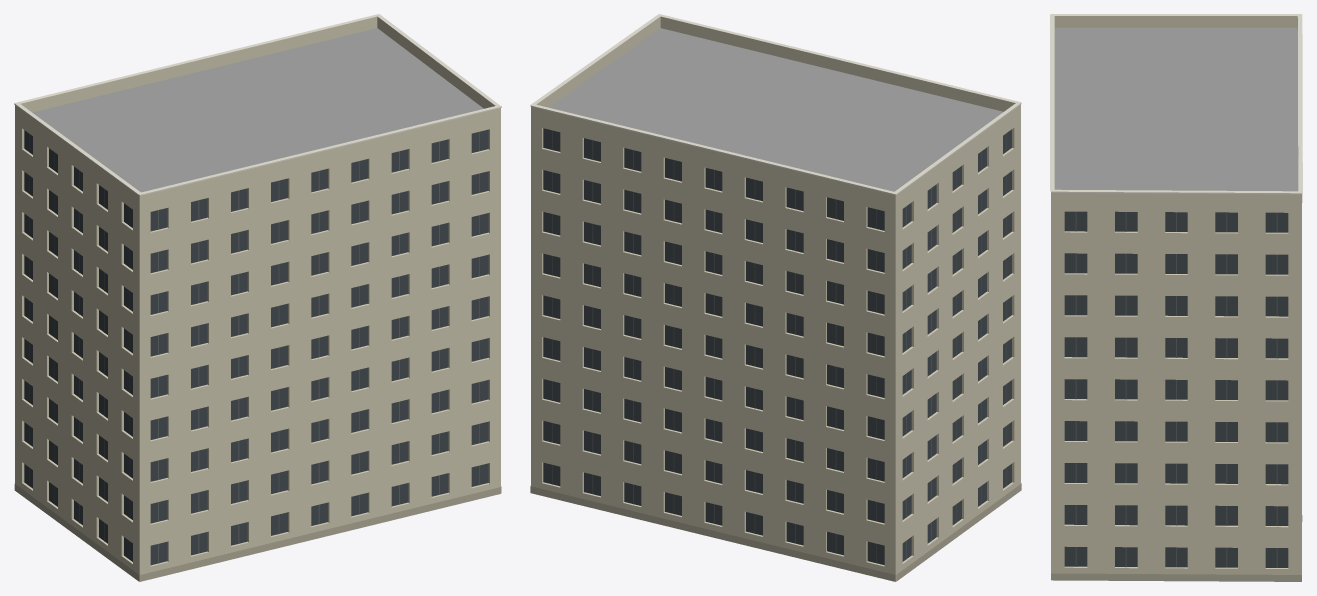
3 renders of one model, left to right at view 1: azimuth 30°, elevation 25°; view 2: azimuth 150°, elevation 25°; view 3: azimuth 270°, elevation 25°, orthographic.
Parts seen in each view (by area): view 1: hospitalCentre__wall, hospitalCentre__roof, hospitalCentre__glass, hospitalCentre__parapet, hospitalCentre__trim, hospitalCentre__base, hospitalCentre__frame; view 2: hospitalCentre__wall, hospitalCentre__roof, hospitalCentre__glass, hospitalCentre__parapet, hospitalCentre__trim, hospitalCentre__base, hospitalCentre__frame; view 3: hospitalCentre__wall, hospitalCentre__roof, hospitalCentre__glass, hospitalCentre__parapet, hospitalCentre__trim, hospitalCentre__base, hospitalCentre__frame.
Part boxes in pixels (box(x1,y1,x2,y2)): hospitalCentre__wall: box(15, 115, 500, 581); hospitalCentre__roof: box(32, 28, 483, 192); hospitalCentre__glass: box(24, 129, 488, 565); hospitalCentre__parapet: box(15, 16, 500, 205); hospitalCentre__trim: box(14, 14, 501, 195); hospitalCentre__base: box(14, 484, 501, 581); hospitalCentre__frame: box(29, 131, 479, 563); hospitalCentre__wall: box(531, 114, 1020, 581); hospitalCentre__roof: box(549, 28, 1003, 191); hospitalCentre__glass: box(543, 128, 1011, 565); hospitalCentre__parapet: box(531, 16, 1020, 205); hospitalCentre__trim: box(530, 14, 1021, 195); hospitalCentre__base: box(530, 483, 1021, 581); hospitalCentre__frame: box(552, 130, 1006, 563); hospitalCentre__wall: box(1051, 203, 1301, 574); hospitalCentre__roof: box(1054, 27, 1298, 191); hospitalCentre__glass: box(1064, 211, 1288, 567); hospitalCentre__parapet: box(1051, 16, 1302, 204); hospitalCentre__trim: box(1050, 14, 1302, 194); hospitalCentre__base: box(1051, 515, 1302, 581); hospitalCentre__frame: box(1075, 211, 1277, 567).
Size of the model in its own units: 33.01 by 33.4 by 19.68.
